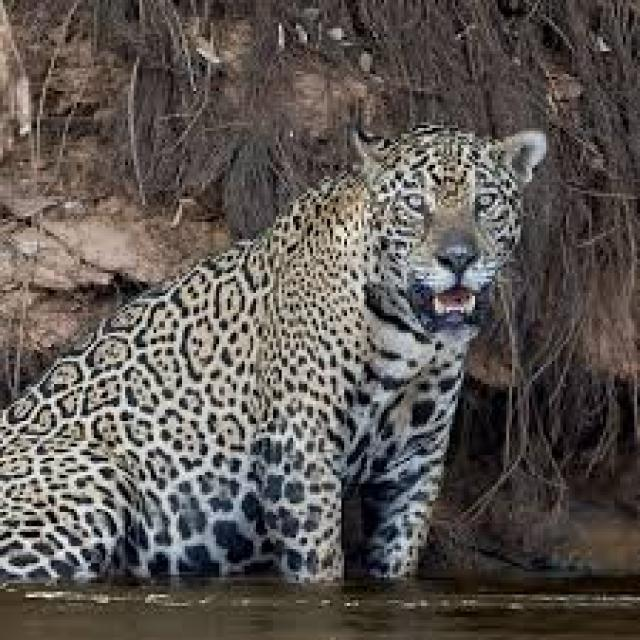Jaguar: (3, 105, 557, 586)
